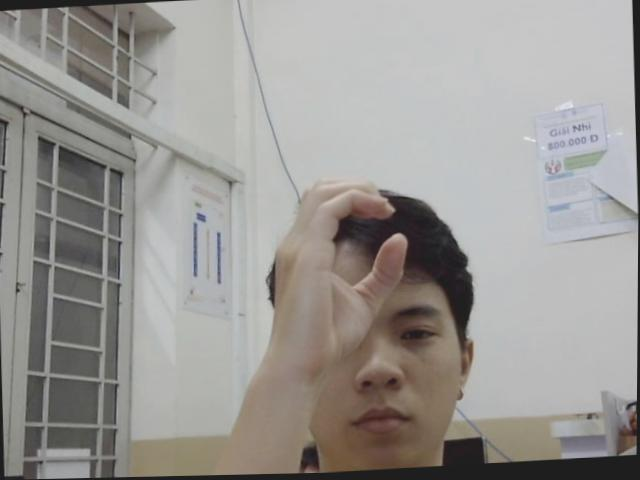C: (262, 171, 413, 376)
